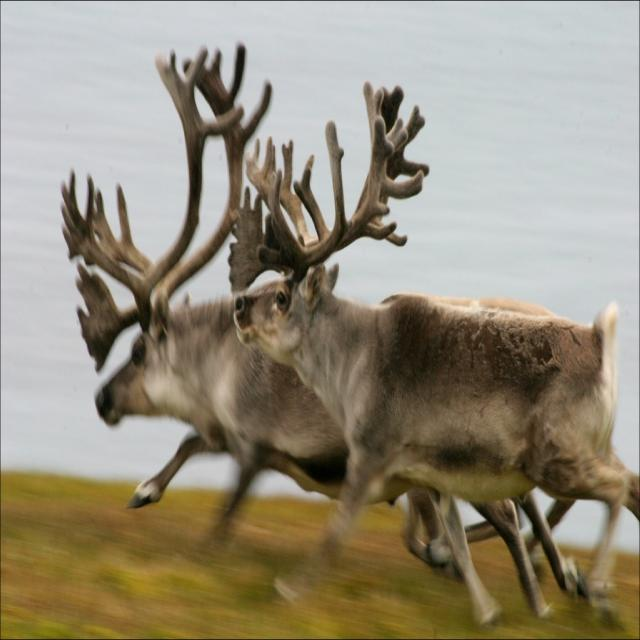Deer: (61, 41, 588, 600), (233, 79, 639, 630)
